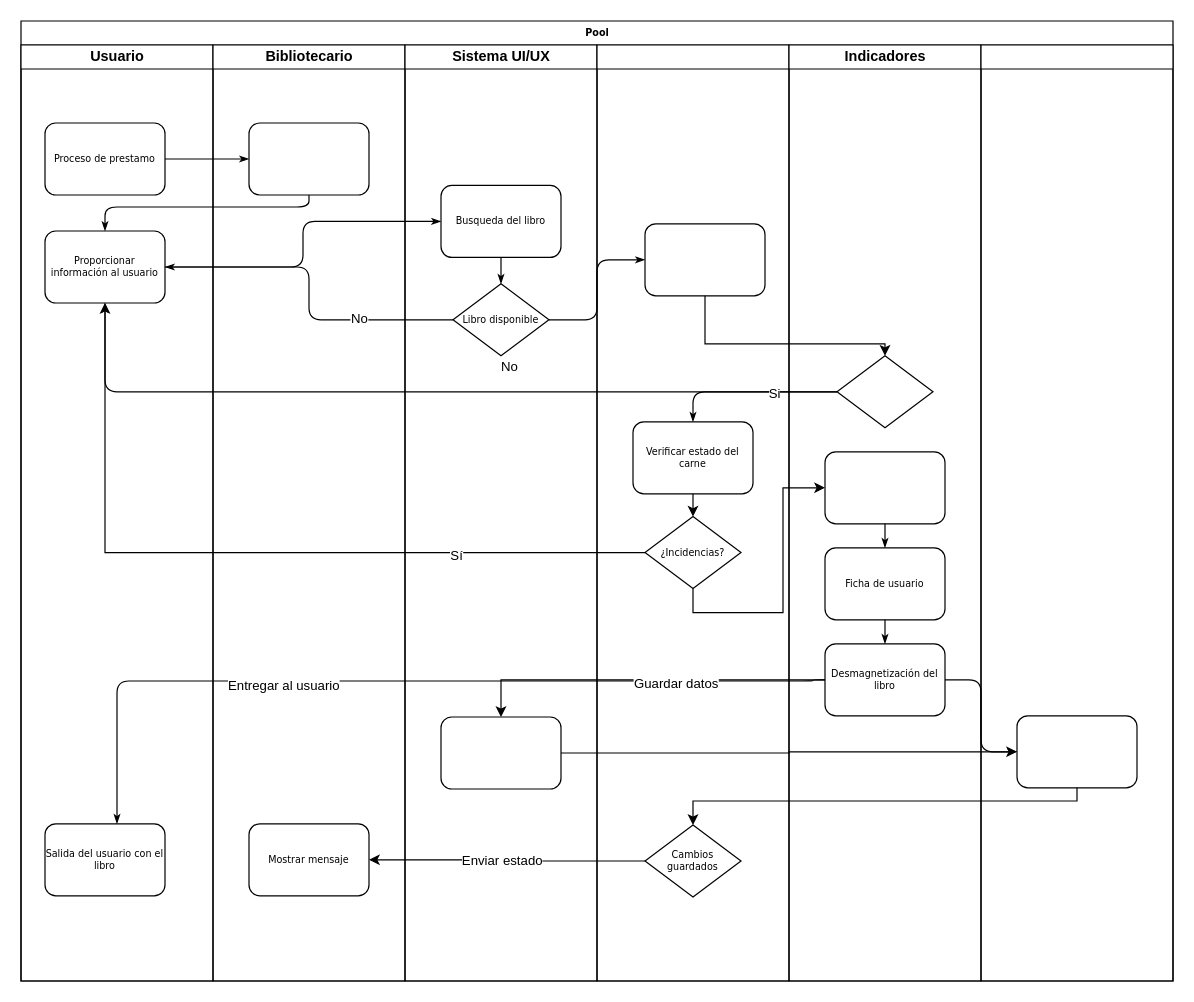
Some shapes in this 1194 by 1002 pixel diagram are drawn without their labels. Each missing label, with the box of its shape:
Actualizar datos del sistema de la bilbioteca: (1016, 715, 1137, 788)
Impresión de la fecha de devolucion: (440, 716, 561, 789)
Realizar reserva: (644, 223, 765, 296)
Registros: (980, 44, 1173, 981)
Rellenar reserva del libro: (824, 451, 945, 524)
Responsable del prestamo: (248, 122, 369, 195)
Sistema Backend: (596, 44, 789, 981)
Tiene carne: (836, 355, 933, 428)
